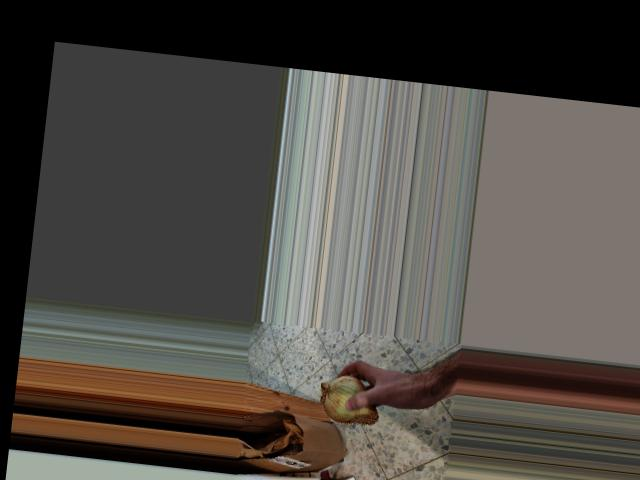onion: (316, 367, 385, 429)
